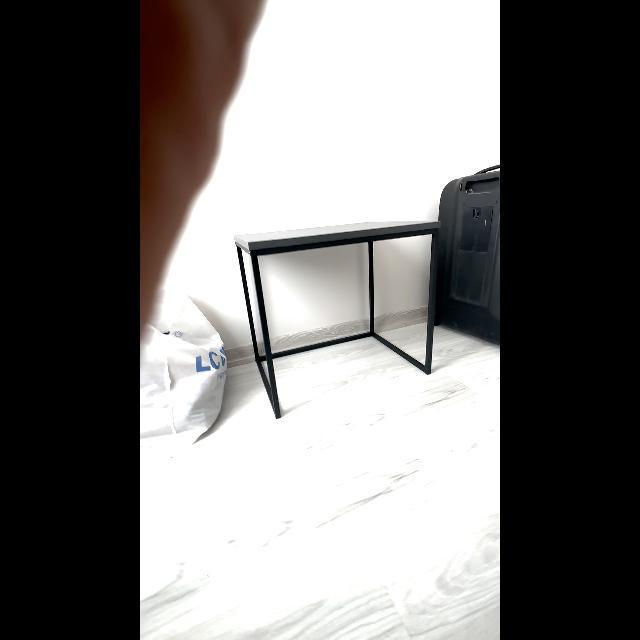coffee table: (226, 218, 440, 386)
